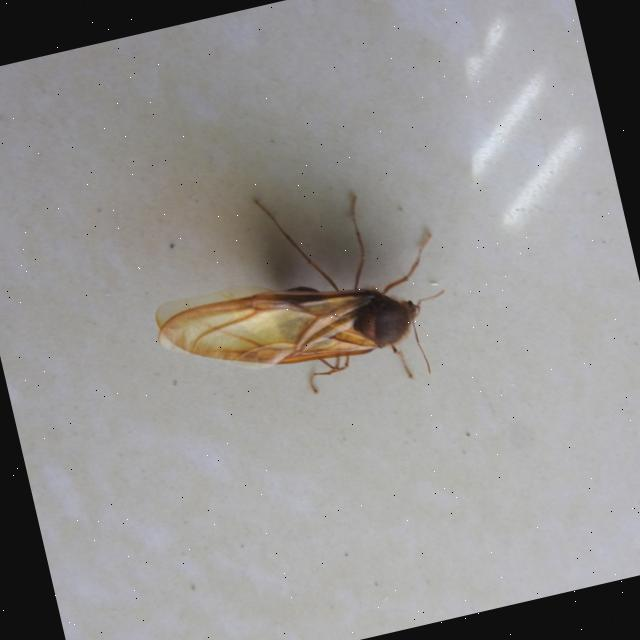Alive-Male-Alate: (131, 160, 462, 431)
